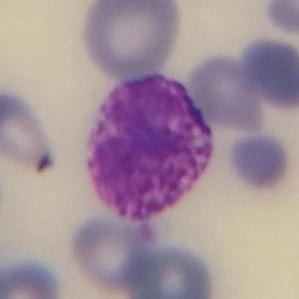Basophil: (76, 67, 224, 234)
RBC: (79, 0, 184, 77), (66, 210, 157, 296), (182, 52, 260, 131), (124, 240, 218, 299), (232, 33, 299, 113), (0, 86, 58, 173), (224, 129, 296, 194), (0, 255, 65, 299), (262, 0, 299, 36)
